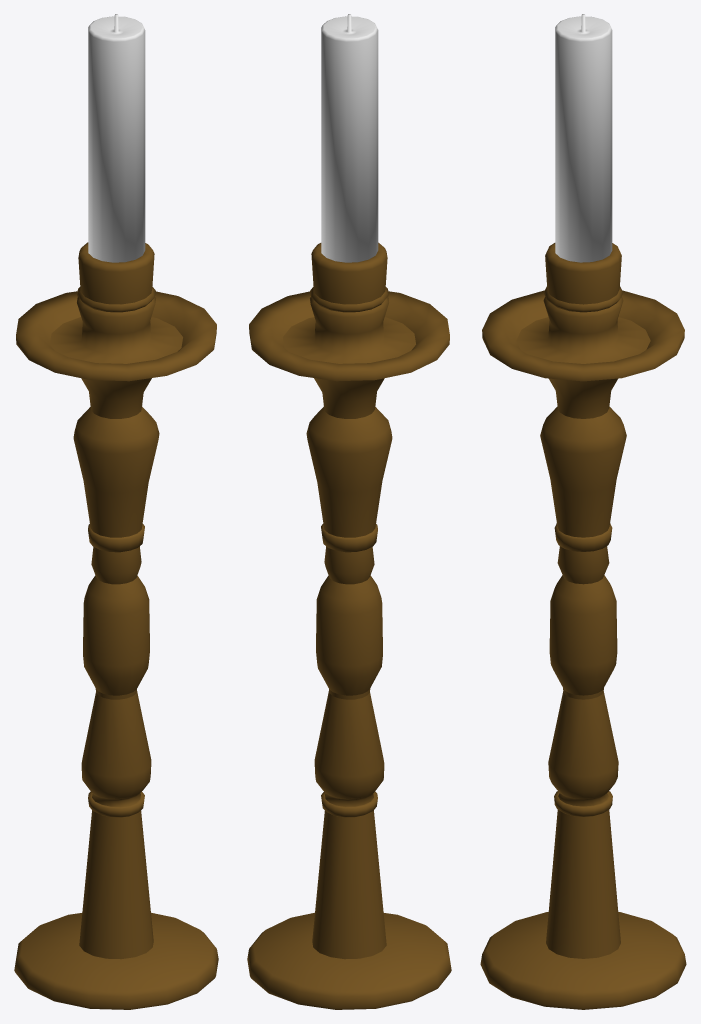
The model's file is Candle_holder_5.fbx.
The picture shows the model from 3 angles, left to right: view 1: azimuth 30°, elevation 25°; view 2: azimuth 150°, elevation 25°; view 3: azimuth 270°, elevation 25°; orthographic projection.
Visible parts, largest first — view 1: Candle_holder_5; view 2: Candle_holder_5; view 3: Candle_holder_5.
Part boxes in pixels (left/top/right/bottom): Candle_holder_5: left=14, top=14, right=218, bottom=1009; Candle_holder_5: left=247, top=14, right=451, bottom=1009; Candle_holder_5: left=480, top=14, right=686, bottom=1009.
Size of the model in its own units: 9 by 45.88 by 9.
